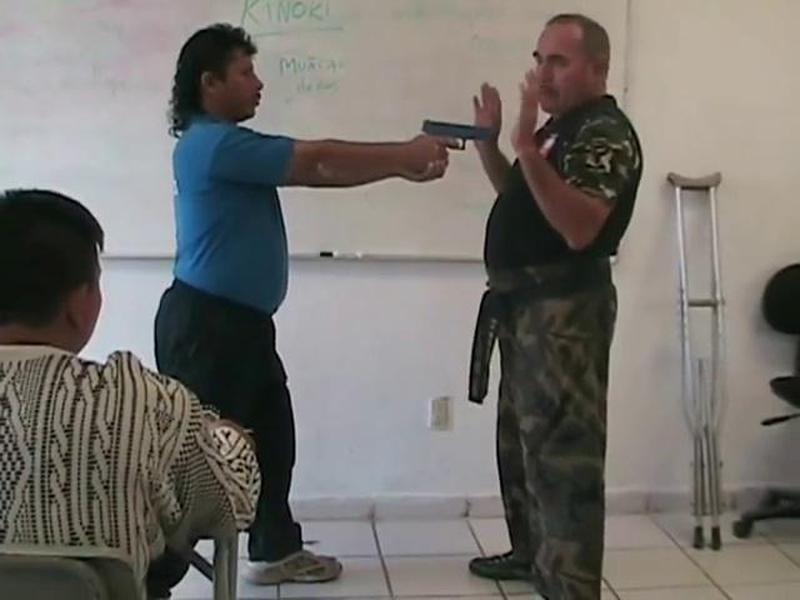Pistola: (412, 113, 505, 187)
